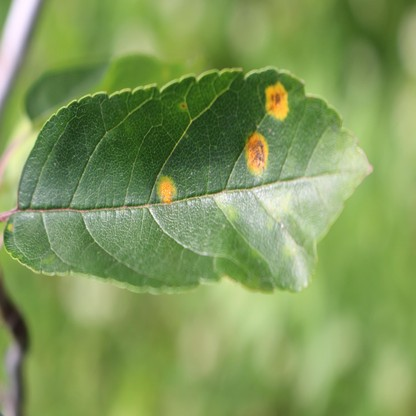rust: (245, 135, 268, 175), (265, 83, 288, 118), (157, 176, 176, 203), (7, 222, 13, 231)
